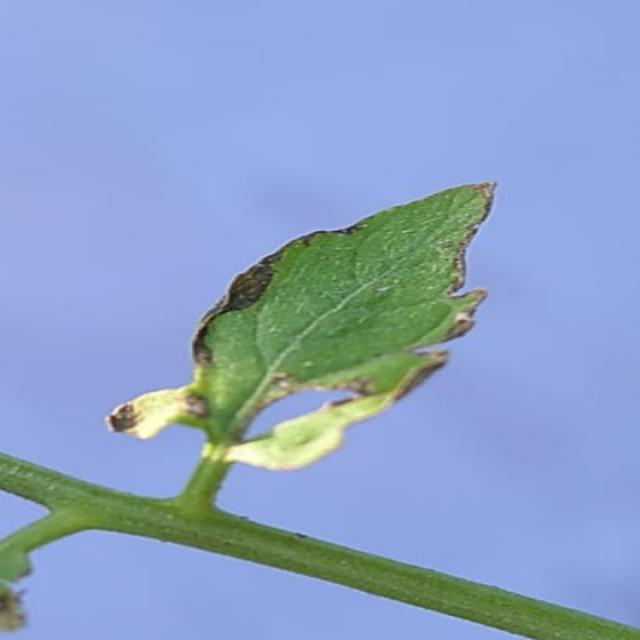infected: (138, 178, 504, 478)
